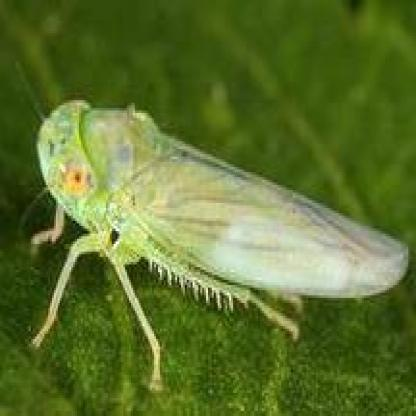Green-Leafhopper: (13, 76, 411, 388)
